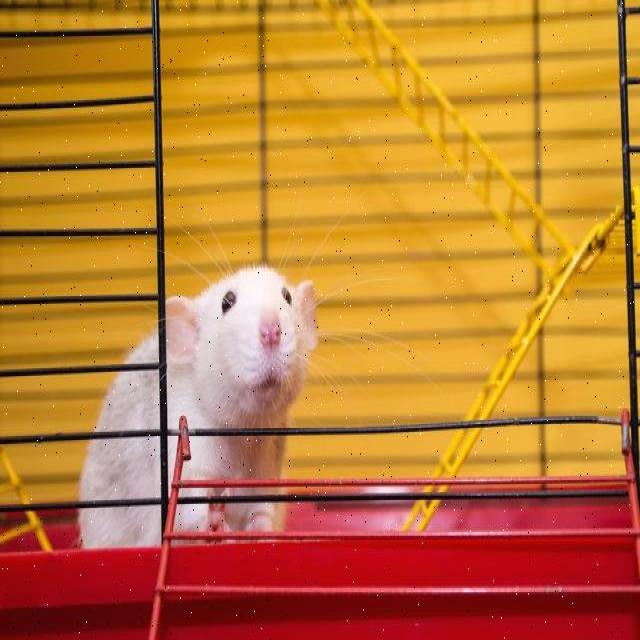rat: (79, 264, 319, 553)
